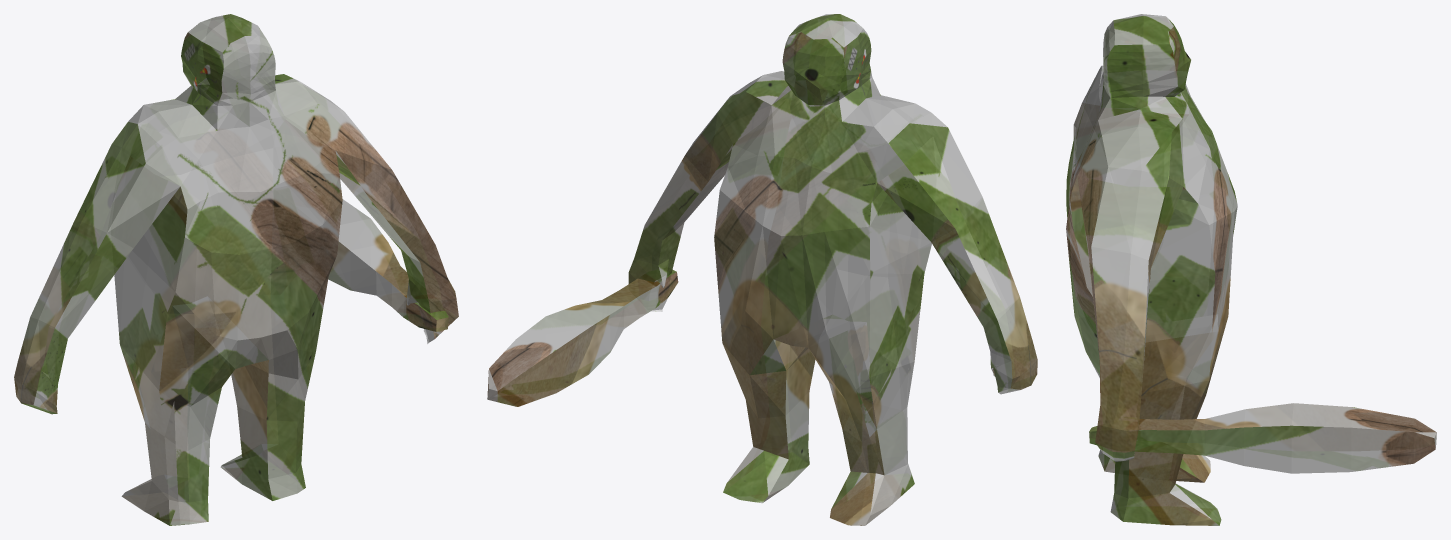
File: Enemigo229.obj
The picture shows the model from 3 angles, left to right: view 1: azimuth 30°, elevation 25°; view 2: azimuth 150°, elevation 25°; view 3: azimuth 270°, elevation 25°; orthographic projection. The views are drawn at different scales.
Visible parts, largest first — view 1: Cube; view 2: Cube; view 3: Cube.
Boxes of the visible parts, x1,y1,x2,y2 form: Cube: (14,14,458,525); Cube: (487,14,1037,525); Cube: (1066,14,1436,525).
Size of the model in its own units: 2.56 by 2.79 by 1.94.
